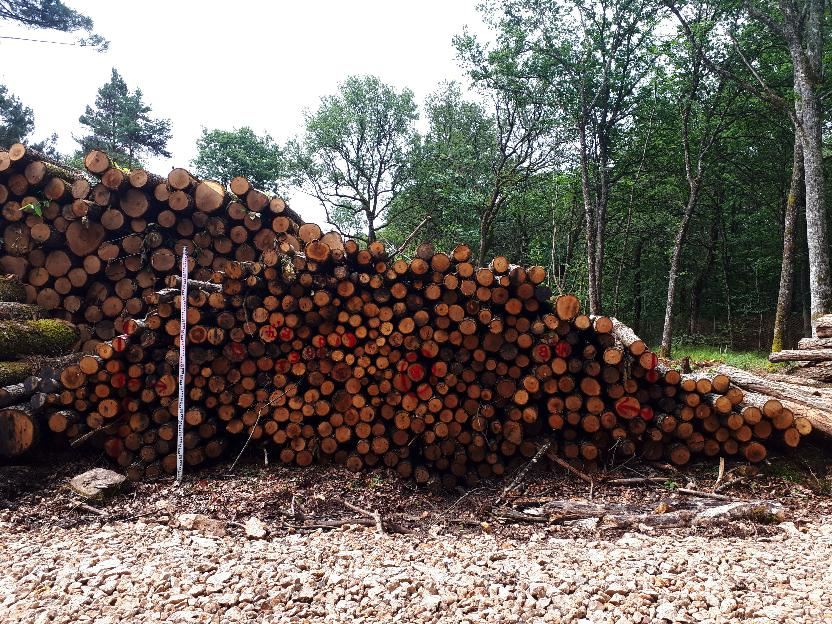object: (3, 405, 34, 461), (65, 221, 107, 255), (194, 181, 224, 211), (3, 222, 32, 252), (120, 188, 148, 214), (556, 294, 582, 320), (2, 256, 30, 280), (44, 252, 72, 274), (772, 406, 796, 430), (152, 248, 174, 272), (62, 364, 86, 386), (154, 372, 176, 396), (26, 160, 48, 184), (44, 177, 66, 199), (85, 282, 107, 304), (618, 396, 640, 418), (103, 437, 125, 459), (85, 150, 107, 172), (100, 210, 124, 230), (304, 242, 330, 260), (40, 288, 61, 310), (642, 439, 665, 459), (7, 174, 29, 194), (92, 182, 112, 204), (751, 417, 771, 439), (169, 168, 191, 188), (114, 279, 138, 297), (72, 178, 92, 199), (48, 412, 68, 433), (504, 421, 524, 442), (334, 390, 353, 412), (31, 222, 51, 242), (255, 228, 275, 248), (102, 297, 122, 317), (278, 234, 300, 252), (122, 235, 144, 253), (78, 354, 100, 372), (498, 376, 516, 398), (330, 362, 353, 379), (224, 344, 248, 360), (98, 242, 119, 260), (686, 432, 704, 453), (586, 397, 608, 414), (521, 415, 543, 432), (193, 229, 213, 247), (214, 236, 234, 254), (430, 252, 450, 270), (84, 253, 102, 273), (106, 261, 126, 279), (30, 266, 48, 286), (69, 268, 89, 286), (483, 332, 503, 350), (532, 344, 552, 362), (186, 346, 206, 364), (640, 350, 660, 368), (581, 377, 601, 395), (540, 439, 560, 457), (671, 444, 691, 462), (102, 169, 122, 187), (594, 332, 616, 348), (702, 412, 724, 428), (184, 448, 206, 464), (248, 191, 266, 210), (566, 330, 584, 349), (422, 339, 440, 358), (125, 344, 143, 363), (726, 388, 744, 407), (99, 400, 118, 418), (469, 444, 487, 463), (712, 375, 732, 392), (745, 442, 765, 459), (298, 224, 320, 239), (228, 200, 246, 218), (4, 201, 22, 219), (244, 212, 262, 230), (146, 229, 164, 247), (236, 244, 254, 262), (56, 276, 74, 294), (535, 285, 553, 303), (492, 286, 510, 304), (189, 290, 207, 308), (210, 290, 228, 308), (208, 326, 226, 344), (440, 439, 458, 457), (128, 169, 146, 187), (323, 232, 342, 249), (465, 397, 482, 416), (169, 192, 189, 208), (418, 242, 438, 258), (260, 250, 280, 266), (125, 252, 145, 268), (478, 265, 494, 285), (267, 279, 287, 295), (21, 284, 37, 304), (602, 367, 622, 383), (81, 339, 103, 353), (745, 402, 759, 424), (154, 184, 172, 201), (29, 248, 46, 266), (139, 328, 157, 345), (130, 412, 147, 430), (372, 437, 390, 454), (10, 144, 28, 161), (131, 216, 150, 232), (145, 315, 164, 331), (191, 324, 207, 343), (231, 178, 249, 194), (42, 202, 60, 218), (159, 210, 175, 228), (273, 215, 291, 231), (176, 218, 194, 234), (207, 217, 223, 235), (176, 240, 194, 256), (197, 248, 213, 266), (177, 256, 195, 272), (528, 266, 546, 282), (246, 294, 264, 310), (282, 294, 298, 312), (64, 296, 82, 312), (448, 302, 464, 320), (320, 304, 338, 320), (84, 307, 102, 323), (96, 320, 114, 336), (260, 324, 278, 340), (214, 356, 230, 374), (408, 362, 424, 380), (664, 368, 682, 384), (394, 374, 412, 390), (210, 374, 226, 392), (563, 395, 581, 411), (764, 402, 782, 418), (394, 411, 412, 427), (660, 414, 678, 430), (584, 414, 600, 432), (247, 424, 265, 440), (593, 431, 611, 447), (126, 433, 142, 451), (165, 350, 185, 364), (714, 396, 734, 410), (602, 409, 616, 429), (392, 430, 412, 444), (522, 437, 536, 457), (123, 468, 143, 482), (72, 201, 89, 217), (139, 270, 156, 286), (461, 278, 478, 294), (524, 375, 540, 392), (269, 388, 285, 405), (170, 399, 186, 416), (186, 308, 204, 323), (442, 394, 461, 408), (88, 432, 107, 446), (22, 195, 38, 211), (232, 224, 248, 240), (370, 240, 386, 256), (456, 245, 472, 261), (338, 280, 354, 296), (313, 290, 329, 306), (408, 293, 424, 309), (502, 343, 518, 359), (606, 348, 622, 364), (432, 360, 448, 376), (257, 371, 273, 387), (418, 383, 434, 399), (402, 393, 418, 409), (344, 408, 360, 424), (186, 409, 202, 425), (630, 418, 646, 434), (677, 422, 693, 438), (736, 424, 752, 440), (335, 425, 351, 441), (322, 437, 338, 453), (584, 459, 600, 475), (397, 462, 413, 478), (494, 254, 508, 272), (224, 280, 242, 294), (344, 296, 362, 310), (125, 299, 143, 313), (264, 342, 282, 356), (550, 358, 568, 372), (307, 371, 325, 385), (635, 389, 653, 403), (237, 392, 255, 406), (660, 397, 678, 411), (547, 398, 565, 412), (112, 422, 130, 436), (285, 424, 303, 438), (297, 452, 315, 466), (164, 454, 178, 472), (412, 310, 431, 323), (410, 261, 430, 273), (459, 262, 474, 278), (511, 268, 526, 284), (54, 310, 74, 322), (218, 311, 233, 327), (459, 319, 475, 334), (230, 326, 245, 342), (404, 335, 420, 350), (249, 340, 264, 356), (99, 344, 115, 359), (559, 376, 574, 392), (304, 388, 320, 403), (274, 406, 290, 421), (360, 406, 376, 421), (154, 408, 170, 423), (89, 412, 104, 428), (410, 417, 426, 432), (64, 422, 80, 437), (158, 424, 174, 439), (783, 432, 803, 444), (445, 422, 462, 436), (502, 440, 516, 457), (62, 203, 76, 219), (191, 211, 207, 225), (213, 256, 229, 270), (426, 284, 442, 298), (374, 286, 390, 300), (143, 287, 157, 303), (173, 294, 189, 308), (298, 296, 314, 310), (264, 297, 280, 311), (467, 298, 481, 314), (363, 303, 379, 317), (304, 311, 320, 325), (269, 310, 283, 326), (398, 317, 414, 331), (123, 319, 139, 333), (168, 318, 182, 334), (76, 324, 90, 340), (342, 332, 356, 348), (464, 334, 480, 348), (582, 346, 598, 360), (277, 357, 291, 373), (242, 358, 256, 374), (111, 372, 127, 386), (444, 372, 460, 386), (608, 384, 624, 398), (514, 390, 530, 404), (387, 389, 401, 405), (31, 392, 47, 406), (429, 398, 443, 414), (316, 398, 330, 414), (220, 404, 236, 418), (550, 414, 564, 430), (356, 423, 372, 437), (154, 440, 170, 454), (704, 440, 720, 454), (142, 446, 156, 462), (450, 463, 466, 477), (194, 269, 212, 281), (596, 318, 614, 330), (472, 418, 490, 430), (226, 420, 244, 432), (205, 442, 223, 454), (358, 249, 372, 264), (149, 346, 163, 361), (184, 433, 198, 448), (620, 442, 635, 456), (426, 444, 440, 459), (348, 457, 362, 472), (346, 379, 362, 392), (477, 464, 493, 477), (414, 468, 430, 481), (536, 364, 548, 381), (309, 435, 319, 455), (270, 199, 284, 213), (334, 264, 348, 278), (445, 274, 459, 288), (477, 285, 491, 299), (379, 307, 393, 321), (254, 307, 268, 321), (419, 324, 433, 338), (504, 326, 518, 340), (281, 327, 295, 341), (519, 334, 533, 348), (632, 339, 646, 353), (556, 342, 570, 356), (302, 344, 316, 358), (259, 357, 273, 371), (569, 358, 583, 372), (318, 359, 332, 373), (320, 380, 334, 394), (698, 404, 712, 418), (680, 406, 694, 420), (524, 408, 538, 422), (243, 411, 257, 425), (729, 414, 743, 428), (320, 422, 334, 436), (334, 449, 348, 463), (107, 359, 122, 372), (25, 377, 40, 390), (795, 419, 810, 432), (290, 256, 306, 268), (396, 258, 408, 274), (226, 264, 242, 276), (284, 268, 296, 284), (392, 282, 408, 294), (228, 294, 244, 306), (508, 300, 524, 312), (156, 304, 172, 316), (518, 316, 530, 332), (320, 320, 336, 332), (298, 324, 310, 340), (366, 340, 382, 352), (454, 349, 470, 361), (585, 362, 601, 374), (177, 372, 193, 384), (641, 405, 653, 421), (200, 424, 216, 436), (564, 428, 580, 440), (458, 432, 474, 444), (724, 440, 740, 452), (566, 442, 578, 458), (280, 449, 296, 461), (148, 464, 160, 480), (344, 239, 358, 252), (576, 314, 590, 327), (115, 317, 129, 330), (273, 375, 287, 388), (242, 377, 256, 390), (384, 453, 398, 466), (119, 452, 132, 466), (444, 290, 459, 302), (698, 379, 710, 394), (93, 385, 110, 395), (473, 348, 486, 361), (55, 217, 67, 231), (250, 260, 262, 274), (264, 267, 278, 279), (313, 272, 325, 286), (300, 272, 312, 286), (519, 284, 533, 296), (394, 300, 406, 314), (237, 308, 251, 320), (286, 313, 298, 327), (243, 322, 257, 334), (557, 322, 571, 334), (380, 323, 394, 335), (354, 326, 368, 338), (450, 332, 464, 344), (544, 332, 558, 344), (328, 333, 342, 345), (390, 332, 402, 346), (312, 334, 326, 346), (112, 338, 126, 350), (442, 346, 454, 360), (388, 350, 402, 362), (406, 351, 420, 363), (292, 362, 306, 374), (130, 363, 142, 377), (463, 367, 475, 381), (228, 368, 240, 382), (483, 371, 495, 385), (42, 378, 56, 390), (625, 379, 637, 393), (190, 388, 204, 400), (62, 389, 74, 403), (686, 393, 700, 405), (354, 394, 366, 408), (493, 395, 507, 407), (290, 396, 304, 408), (257, 401, 269, 415), (510, 408, 524, 420), (567, 413, 581, 425), (373, 422, 385, 436), (717, 429, 731, 441), (274, 430, 288, 442), (144, 430, 156, 444), (356, 440, 370, 452), (365, 454, 379, 466), (444, 476, 458, 488), (218, 392, 233, 403), (172, 336, 190, 345), (480, 406, 496, 416), (546, 314, 558, 327), (491, 319, 503, 332), (546, 379, 558, 392), (291, 408, 303, 421), (435, 330, 449, 341), (378, 381, 392, 392), (141, 388, 155, 399), (612, 428, 626, 439), (584, 446, 598, 457), (209, 272, 224, 282), (440, 410, 455, 420), (332, 248, 344, 260), (386, 268, 398, 280), (166, 276, 178, 288), (370, 276, 382, 288), (526, 298, 538, 310), (316, 346, 328, 358), (204, 348, 216, 360), (332, 350, 344, 362), (376, 356, 388, 368), (144, 362, 156, 374), (353, 366, 365, 378), (195, 376, 207, 388), (684, 378, 696, 390), (437, 382, 449, 394), (286, 382, 298, 394), (256, 388, 268, 400), (416, 403, 428, 415), (302, 404, 314, 416), (382, 406, 394, 418), (456, 410, 468, 422), (331, 414, 343, 426), (491, 421, 503, 433), (266, 422, 278, 434), (491, 462, 503, 474), (533, 319, 544, 332), (425, 430, 436, 443), (305, 260, 319, 270), (149, 292, 163, 302), (437, 302, 447, 316), (480, 309, 490, 323), (352, 312, 362, 326), (357, 356, 371, 366), (634, 367, 648, 377), (647, 372, 661, 382), (232, 382, 246, 392), (467, 386, 481, 396), (74, 388, 88, 398), (48, 392, 58, 406), (204, 396, 218, 406), (437, 423, 447, 437), (292, 438, 306, 448), (569, 460, 583, 470), (466, 474, 480, 484), (2, 151, 10, 168), (288, 350, 300, 361), (496, 362, 507, 374), (128, 381, 140, 392), (487, 452, 499, 463), (289, 286, 305, 294), (315, 455, 329, 464), (28, 215, 40, 225), (376, 262, 388, 272), (432, 272, 444, 282), (326, 276, 338, 286), (280, 341, 292, 351), (380, 344, 392, 354), (518, 355, 528, 367), (398, 360, 408, 372), (472, 363, 484, 373), (188, 364, 200, 374), (508, 366, 520, 376), (384, 368, 394, 380), (369, 383, 379, 395), (666, 386, 678, 396), (530, 388, 542, 398), (160, 396, 172, 406), (76, 399, 86, 411), (303, 424, 313, 436), (399, 448, 411, 458), (471, 437, 484, 446), (338, 311, 348, 322), (438, 317, 448, 328), (374, 370, 384, 381), (425, 414, 436, 424), (501, 274, 510, 286), (361, 292, 373, 301), (306, 361, 318, 370), (128, 401, 140, 410), (439, 459, 448, 471), (484, 360, 497, 368), (280, 242, 290, 252), (336, 324, 346, 334), (354, 347, 364, 357), (452, 362, 462, 372), (202, 366, 212, 376), (430, 482, 440, 492), (368, 318, 380, 326), (484, 388, 492, 400), (651, 430, 663, 438), (507, 316, 517, 325), (376, 336, 386, 345), (372, 397, 382, 406), (2, 183, 6, 205), (360, 273, 368, 283), (249, 276, 259, 284), (417, 277, 425, 287), (370, 329, 378, 339), (292, 340, 302, 348), (347, 354, 355, 364), (352, 272, 358, 284), (368, 366, 376, 374), (458, 383, 466, 391), (458, 454, 466, 462), (430, 378, 439, 384), (333, 298, 341, 304), (491, 442, 497, 450), (362, 376, 368, 383)
pile: (23, 240, 811, 492)
